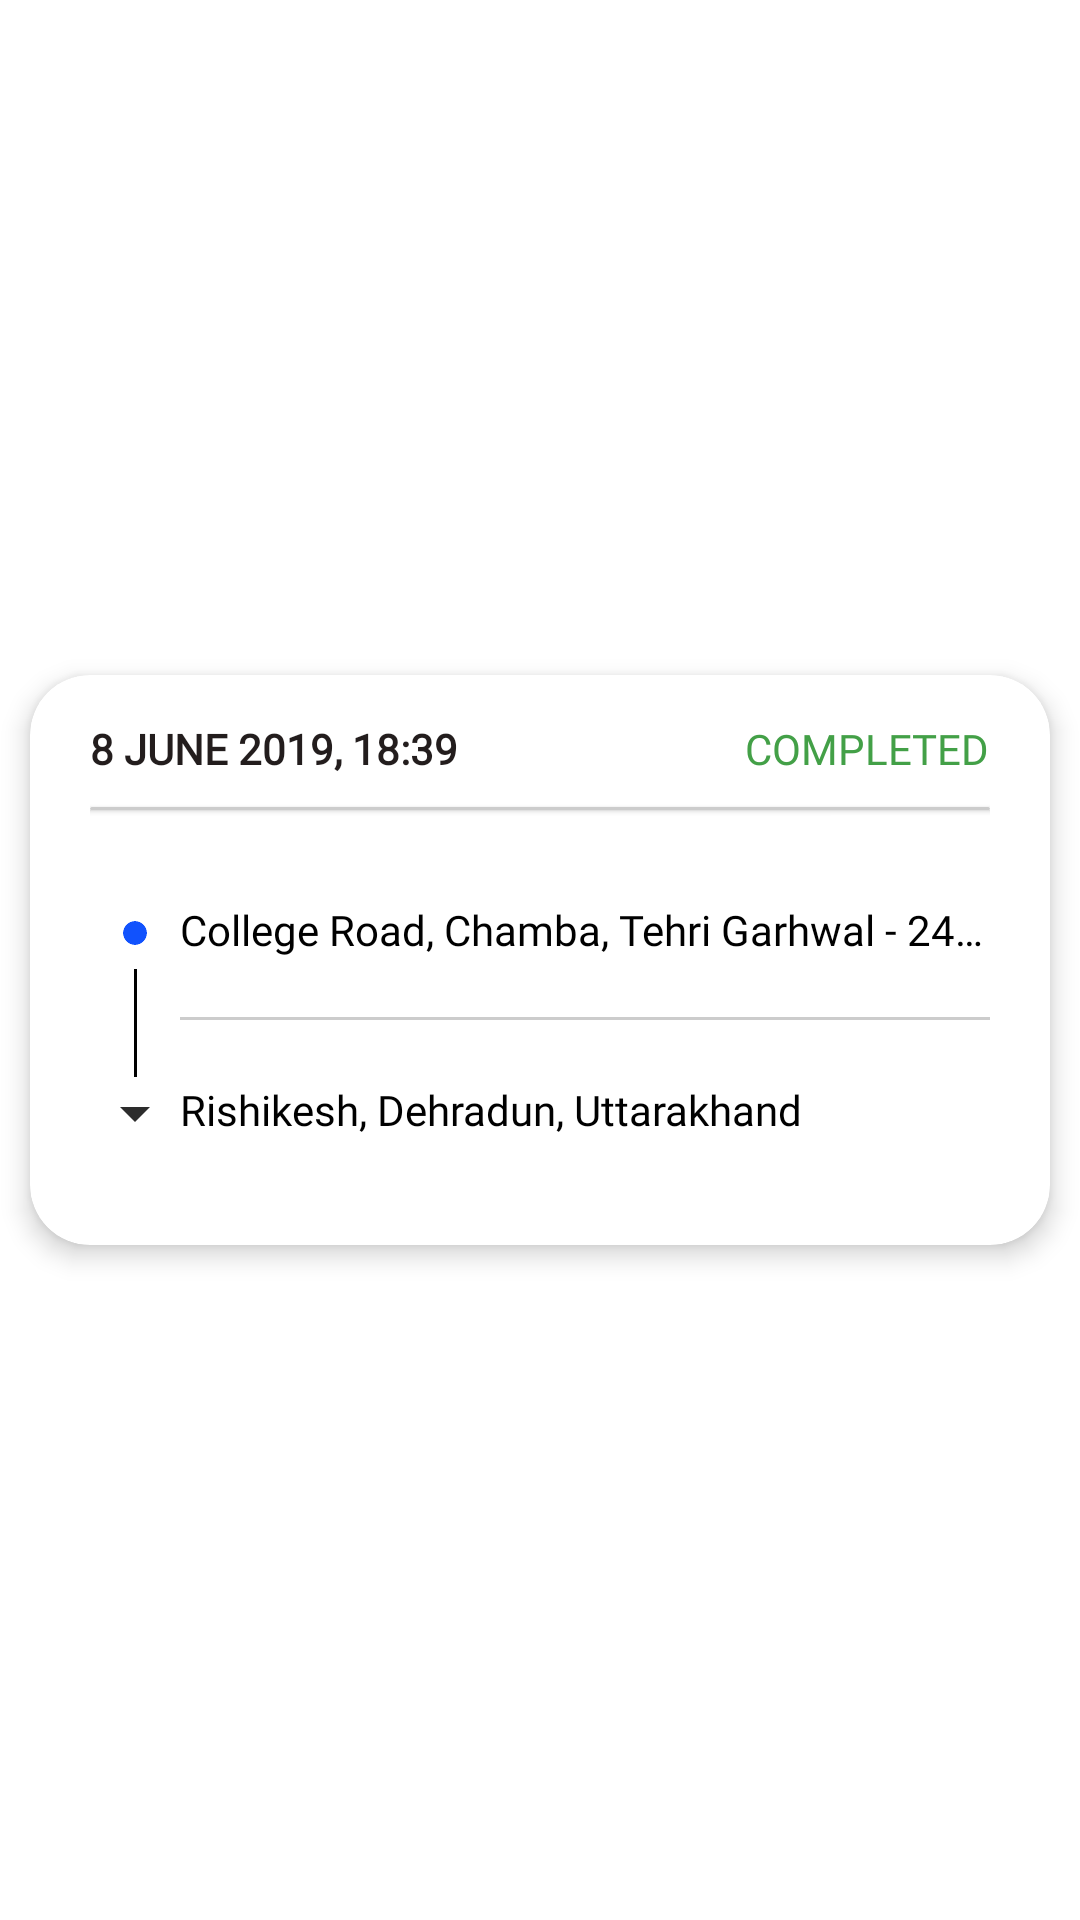

Icons on this 1080x1920 Android screen, each with the point to tap as point (x, y):
dropdown: point (135, 1114)
